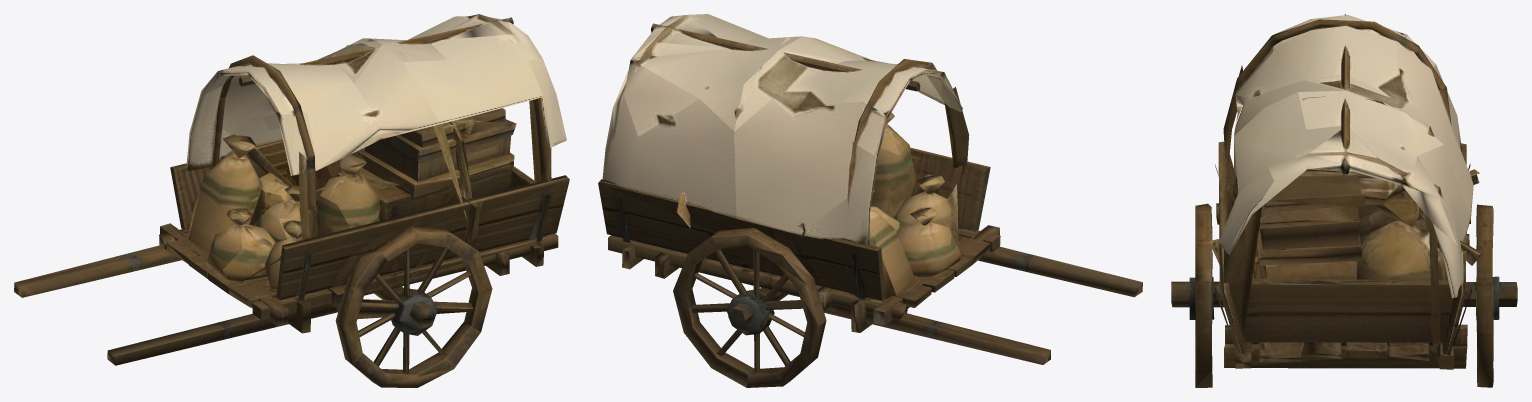
The model's file is supply-cart.glb.
3 views of the same model, side by side, from view 1: azimuth 30°, elevation 25°; view 2: azimuth 150°, elevation 25°; view 3: azimuth 270°, elevation 25° (orthographic). The views are drawn at different scales.
Parts seen in each view (by area): view 1: mesh_node; view 2: mesh_node; view 3: mesh_node.
Part boxes in pixels (bbox=[...]): mesh_node: bbox=[14, 14, 569, 387]; mesh_node: bbox=[598, 14, 1142, 387]; mesh_node: bbox=[1171, 14, 1517, 387].
Bounding box in the file's own units: 4.76 × 3 × 2.95.
Materials: 1 (1 with a texture image).
